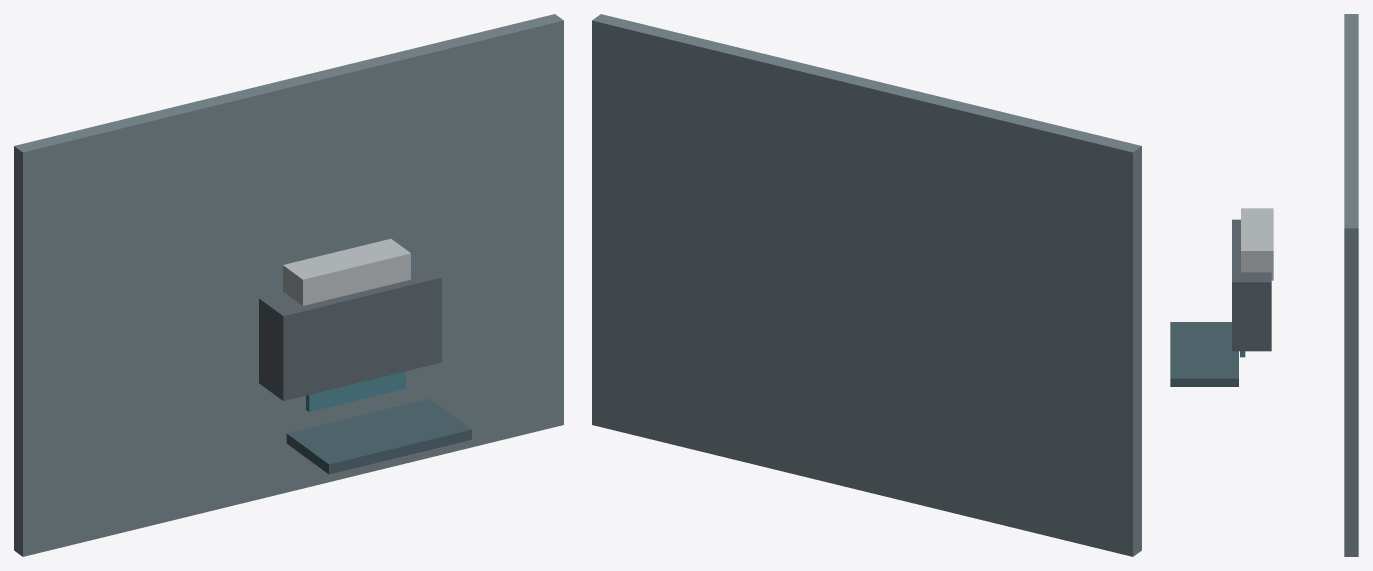
The model's file is oximeter-medium.glb.
3 views of the same model, side by side, from view 1: azimuth 30°, elevation 25°; view 2: azimuth 150°, elevation 25°; view 3: azimuth 270°, elevation 25° (orthographic). The views are drawn at different scales.
Parts seen in each view (by area): view 1: presentation_base_detail, oximeter_body, screen_bezel_detail, oximeter_clip, oximeter_screen; view 2: presentation_base_detail; view 3: presentation_base_detail, screen_bezel_detail, oximeter_body, oximeter_clip.
Part boxes in pixels (x1,y1,x2,y2): presentation_base_detail: (14,14,563,556); oximeter_body: (259,259,441,400); screen_bezel_detail: (286,398,471,474); oximeter_clip: (283,238,410,305); oximeter_screen: (306,371,405,411); presentation_base_detail: (592,14,1141,556); presentation_base_detail: (1344,14,1358,556); screen_bezel_detail: (1170,322,1238,386); oximeter_body: (1232,219,1271,351); oximeter_clip: (1241,208,1273,280).
Size of the model in its own units: 2.8 by 2 by 1.04.
